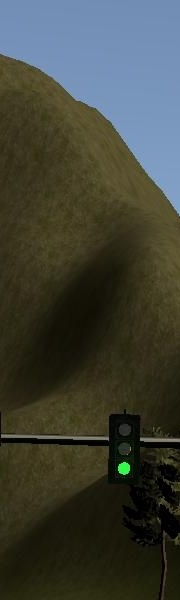Green: (109, 411, 140, 487)
